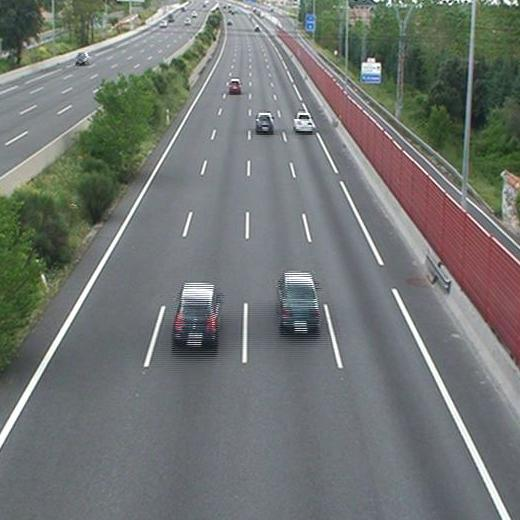car: (172, 282, 218, 347), (279, 274, 319, 333), (293, 113, 313, 132), (256, 113, 274, 132), (229, 80, 241, 93)
